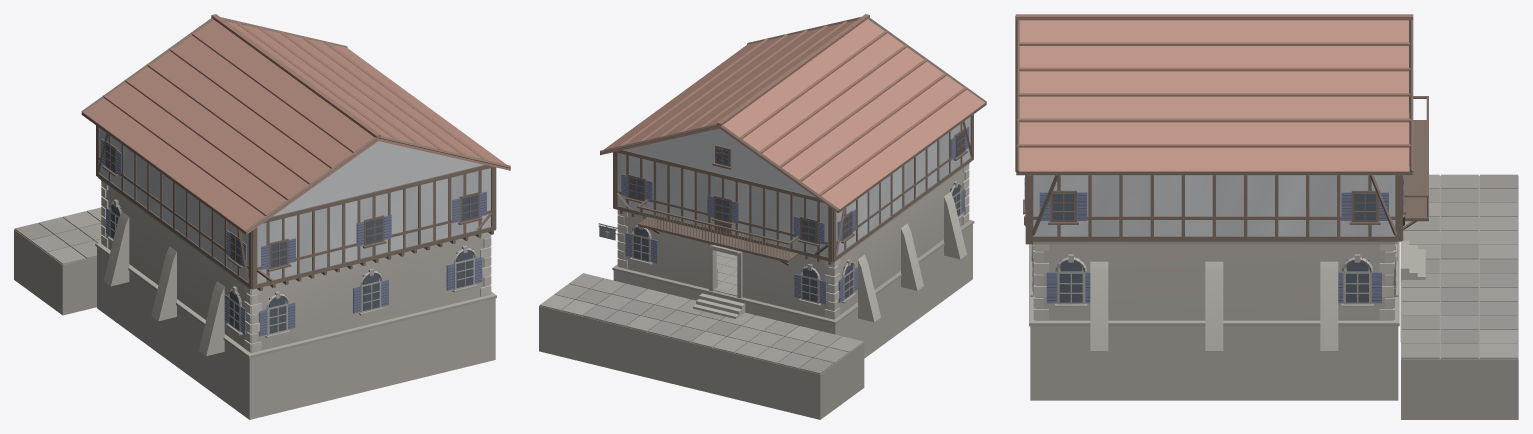
File: trophy_hall_3.gltf
3 renders of one model, left to right at view 1: azimuth 30°, elevation 25°; view 2: azimuth 150°, elevation 25°; view 3: azimuth 270°, elevation 25°, orthographic. The views are drawn at different scales.
Visible parts, largest first — view 1: Body; view 2: Body; view 3: Body.
Boxes of the visible parts, <box> form: Body: <box>14,14,510,419</box>; Body: <box>539,14,986,419</box>; Body: <box>1015,14,1518,419</box>.
Size of the model in its own units: 17 by 13.49 by 19.69.
